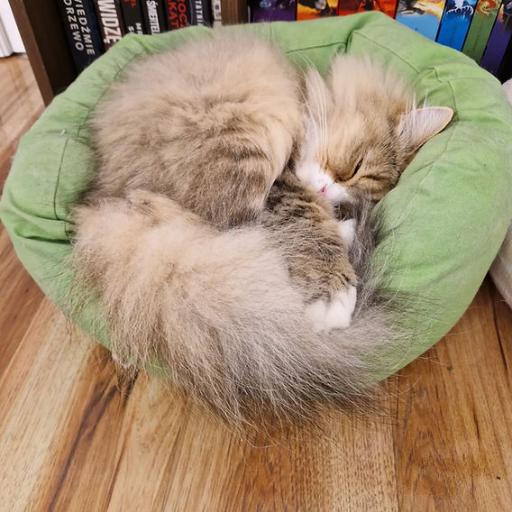cat_sleeping: (71, 29, 452, 420)
